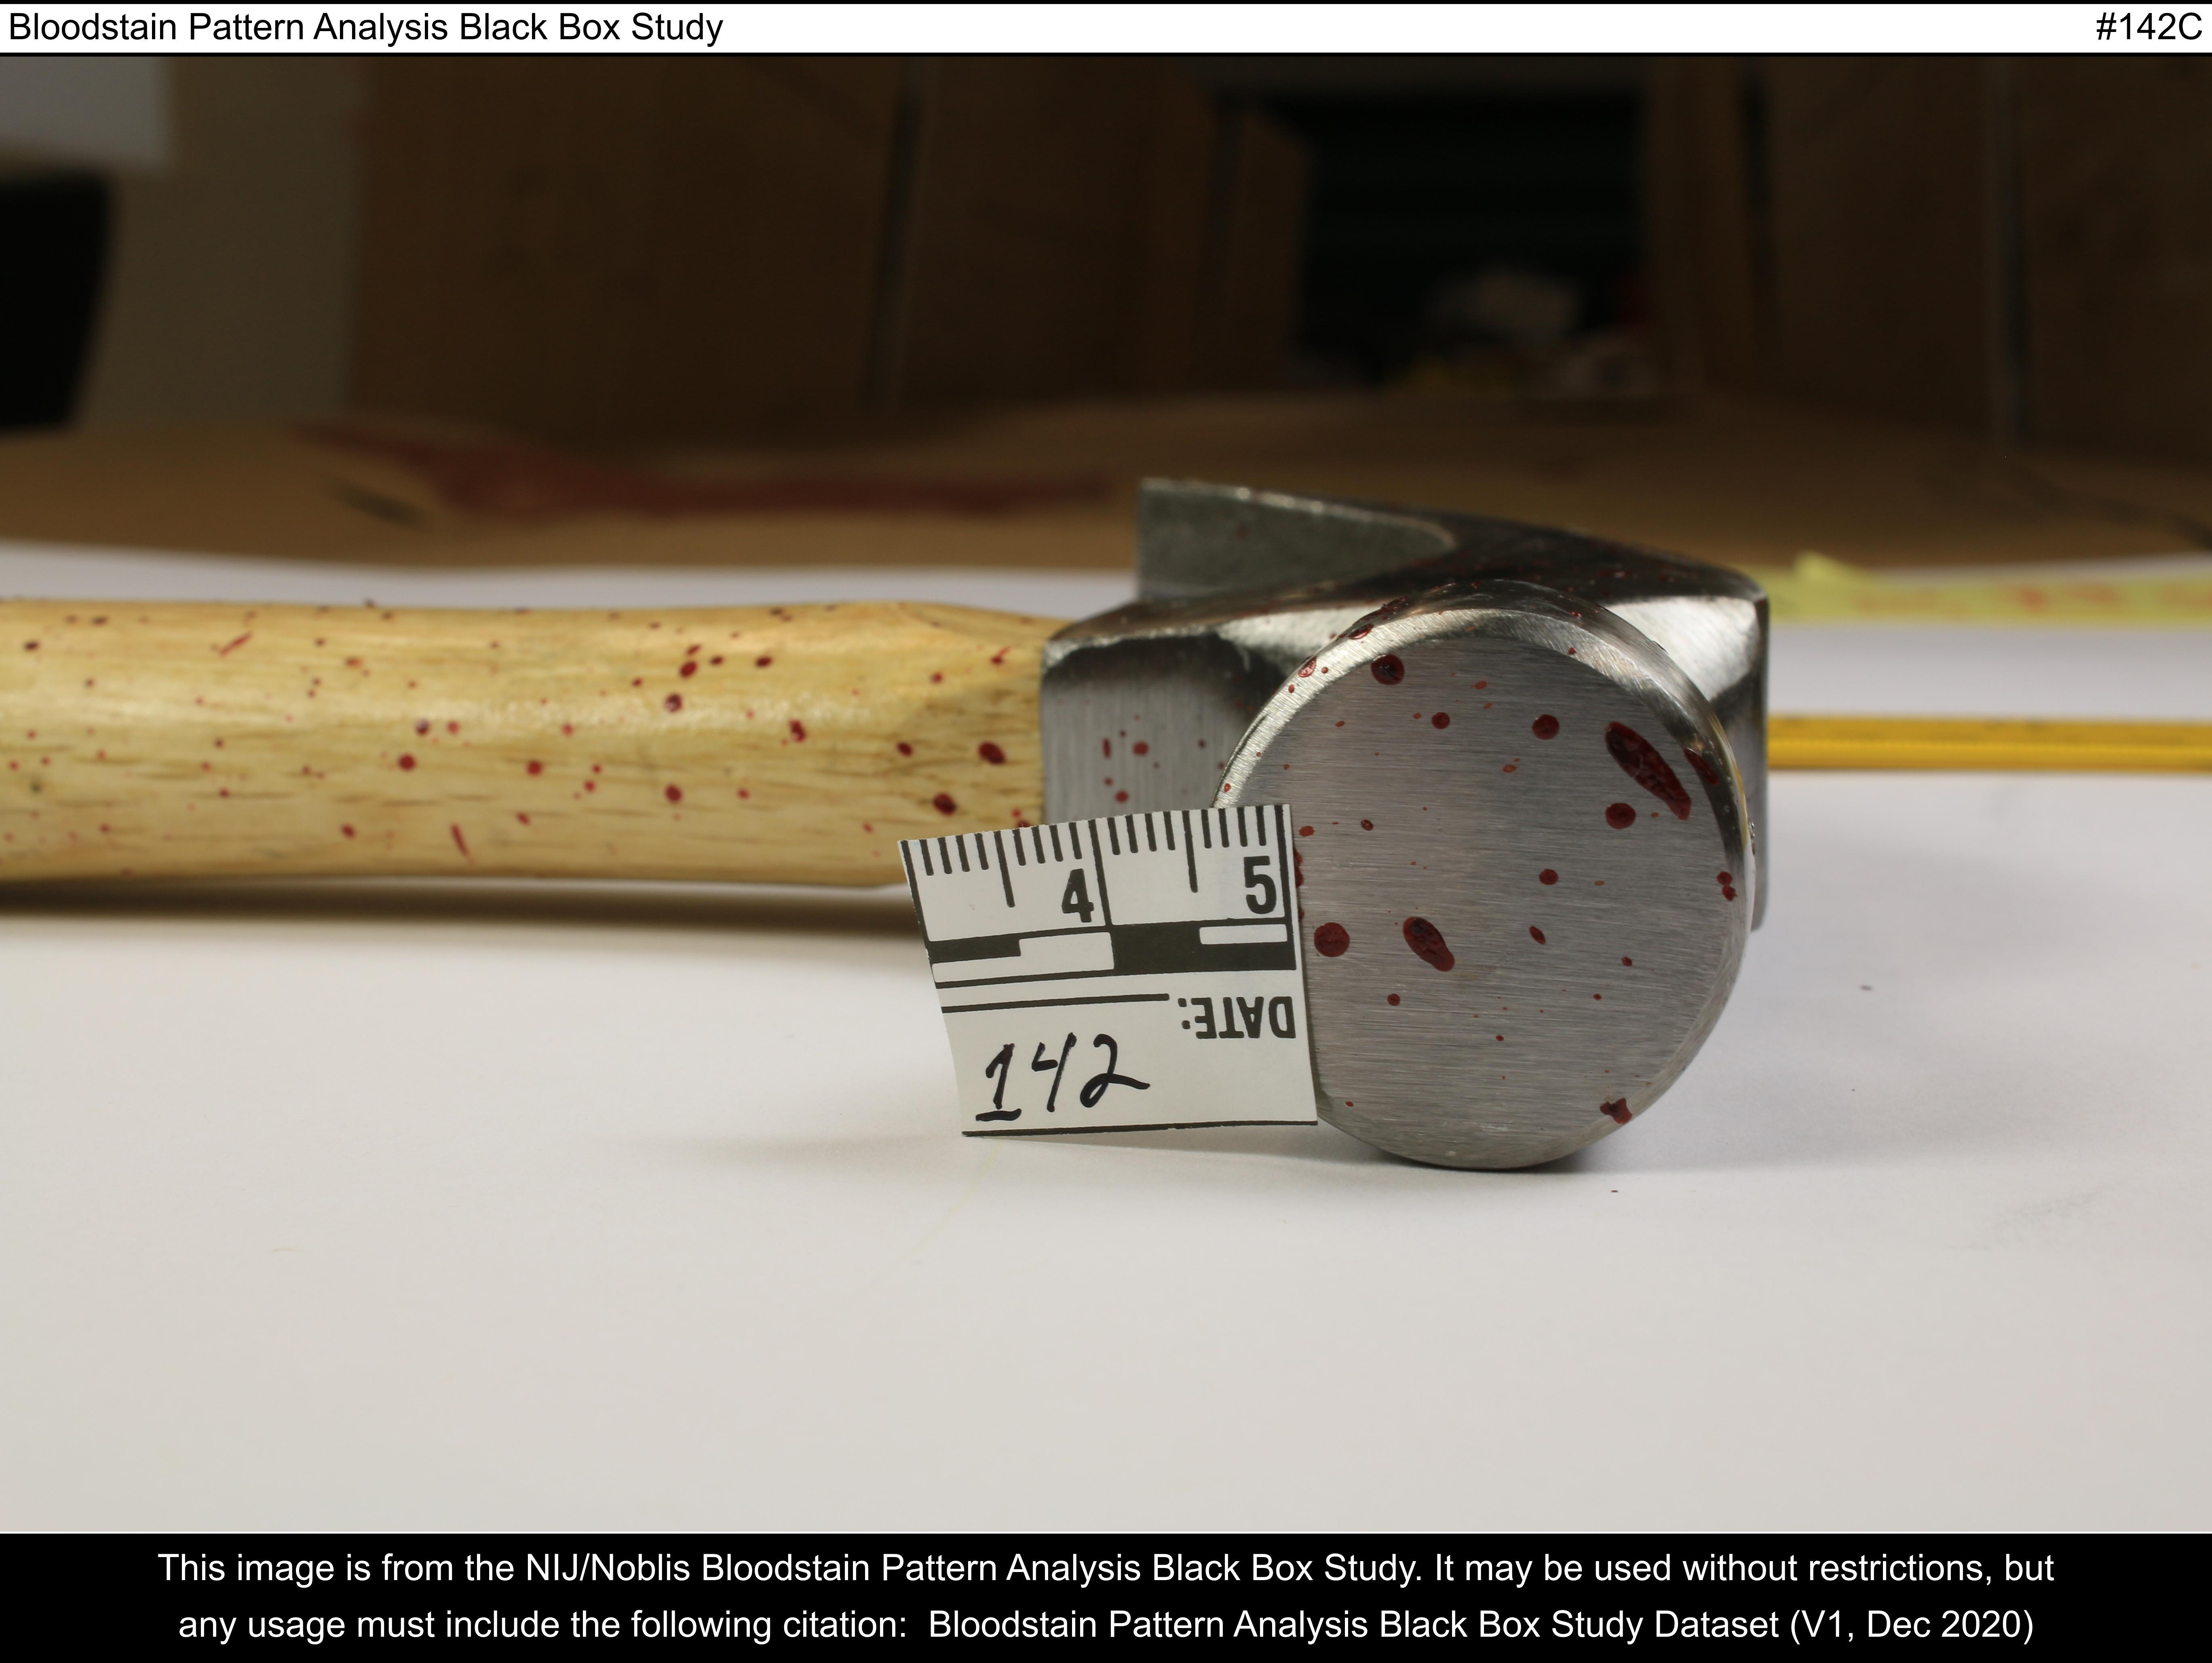Impact: (0, 452, 1779, 1181)
